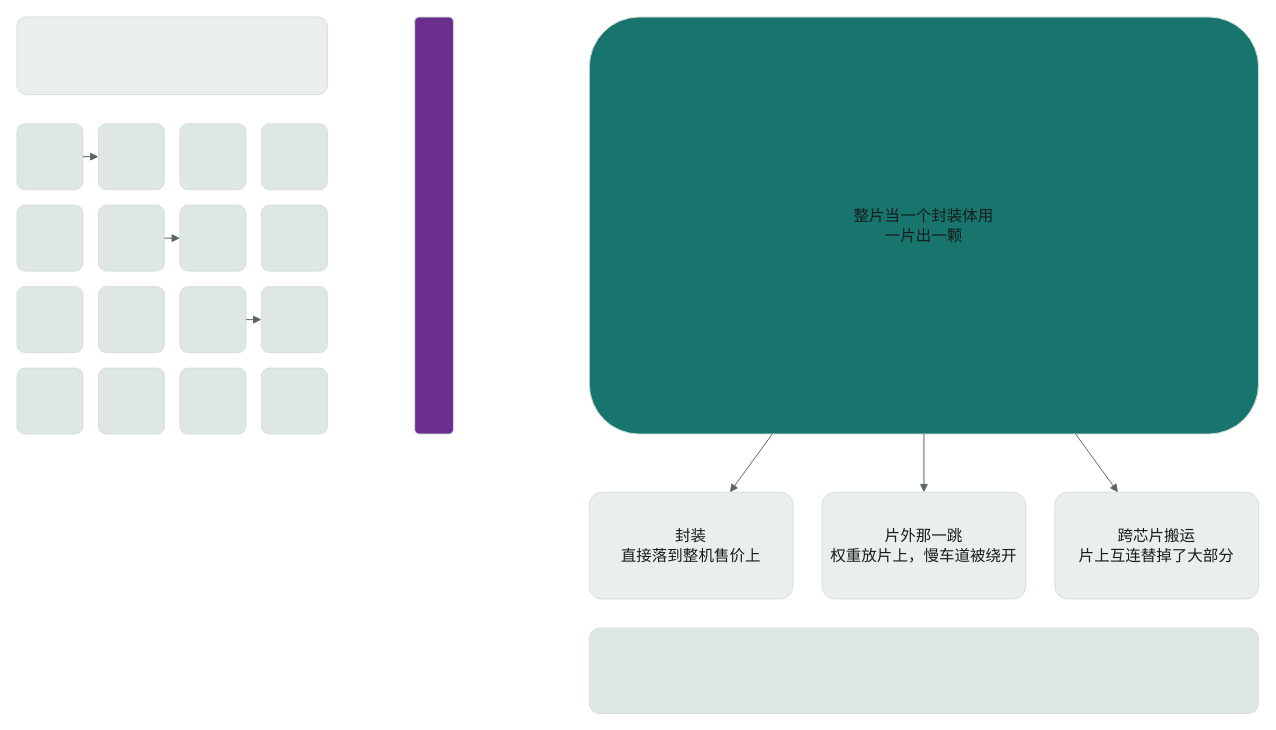
Some shapes in this 1276 by 730 pixel diagram are drawn without their labels. Here are the shapes that lost their labels. From the top down, the centre of each, then its label:
the point at 171,55: 切开、分别封装 一张晶圆出几十颗
the point at 923,670: 代价落在不切的那一侧 供电、散热、良率都要重新发明：传统封装撑不住，PCB 本身就是封装
